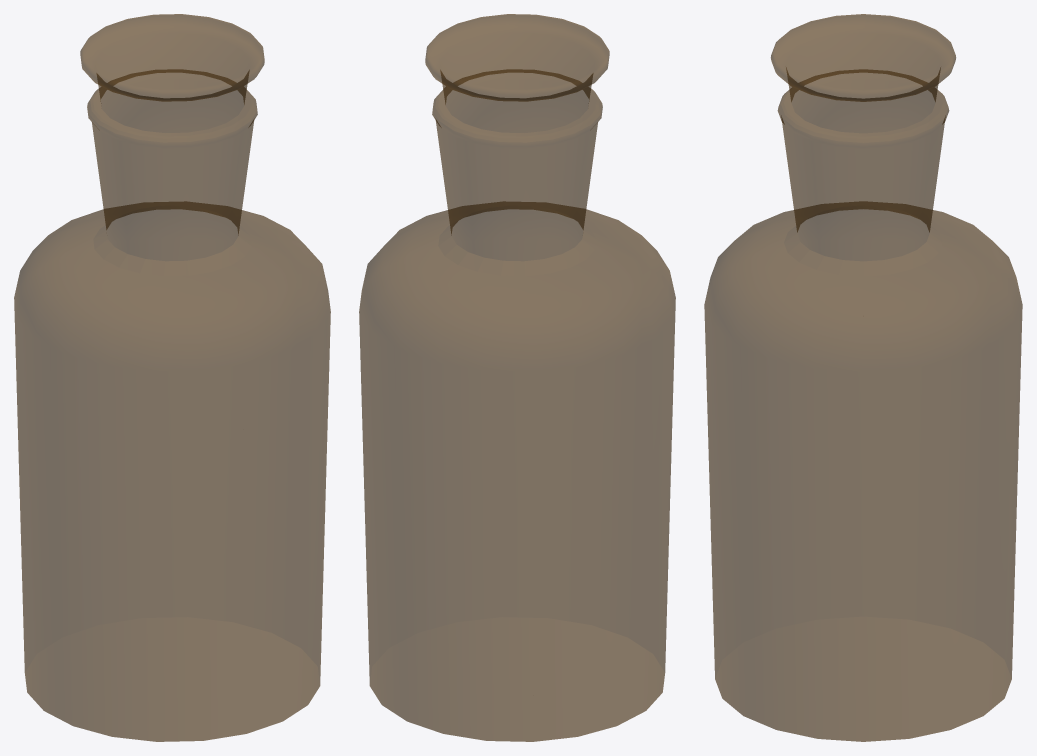
Rendered from liquid.fbx.
3 views of the same model, side by side, from view 1: azimuth 30°, elevation 25°; view 2: azimuth 150°, elevation 25°; view 3: azimuth 270°, elevation 25° (orthographic).
Parts seen in each view (by area): view 1: pCylinder1; view 2: pCylinder1; view 3: pCylinder1.
Part boxes in pixels (bbox=[...]): pCylinder1: bbox=[14, 14, 330, 741]; pCylinder1: bbox=[359, 14, 675, 741]; pCylinder1: bbox=[704, 14, 1022, 741].
Bounding box in the file's own units: 2.67 × 5.8 × 2.67.
